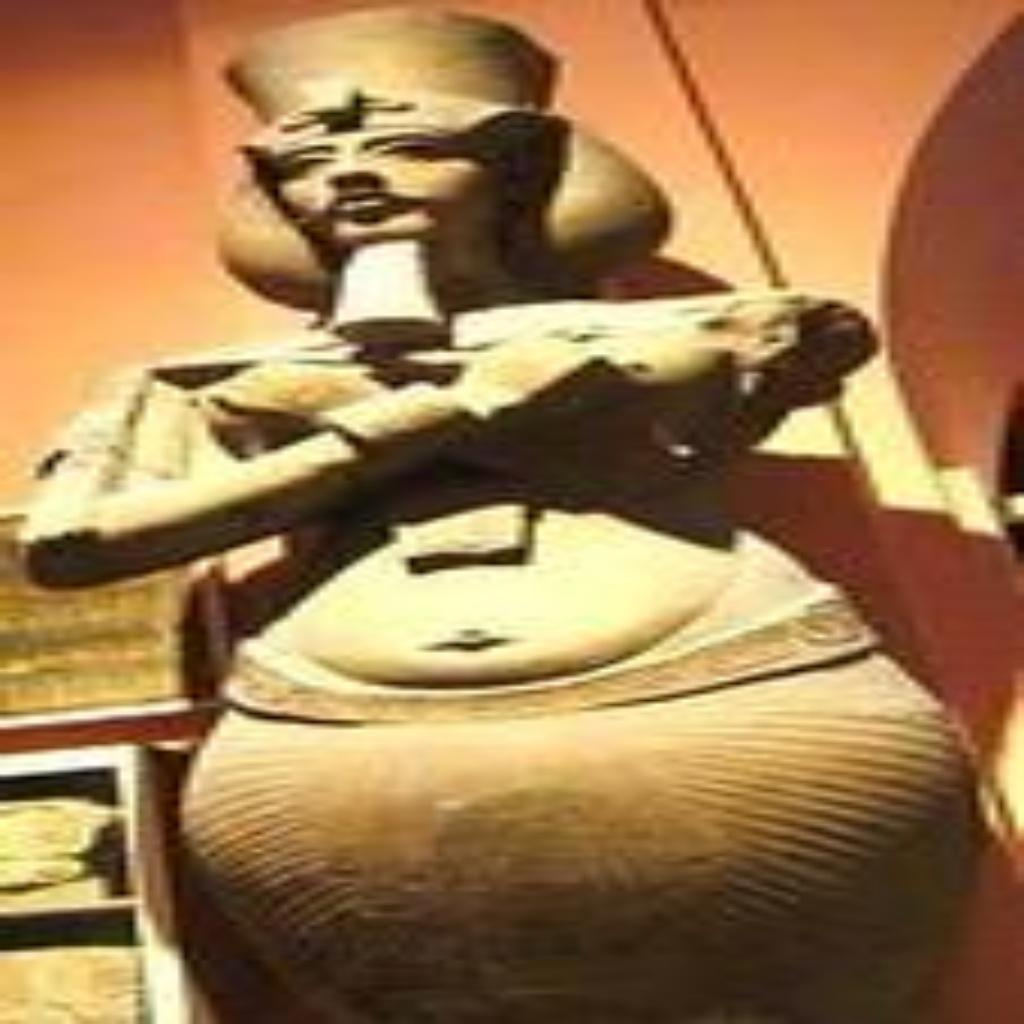Akhenaten: (9, 0, 1015, 1020)
